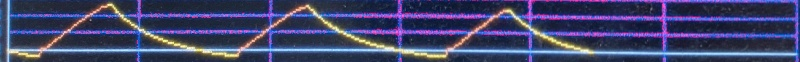normal_volume: (18, 0, 604, 62)
